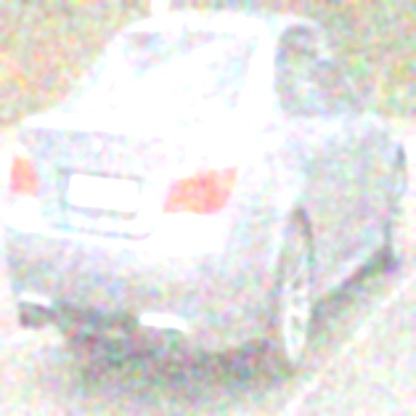Vehicle: (5, 10, 407, 384)
